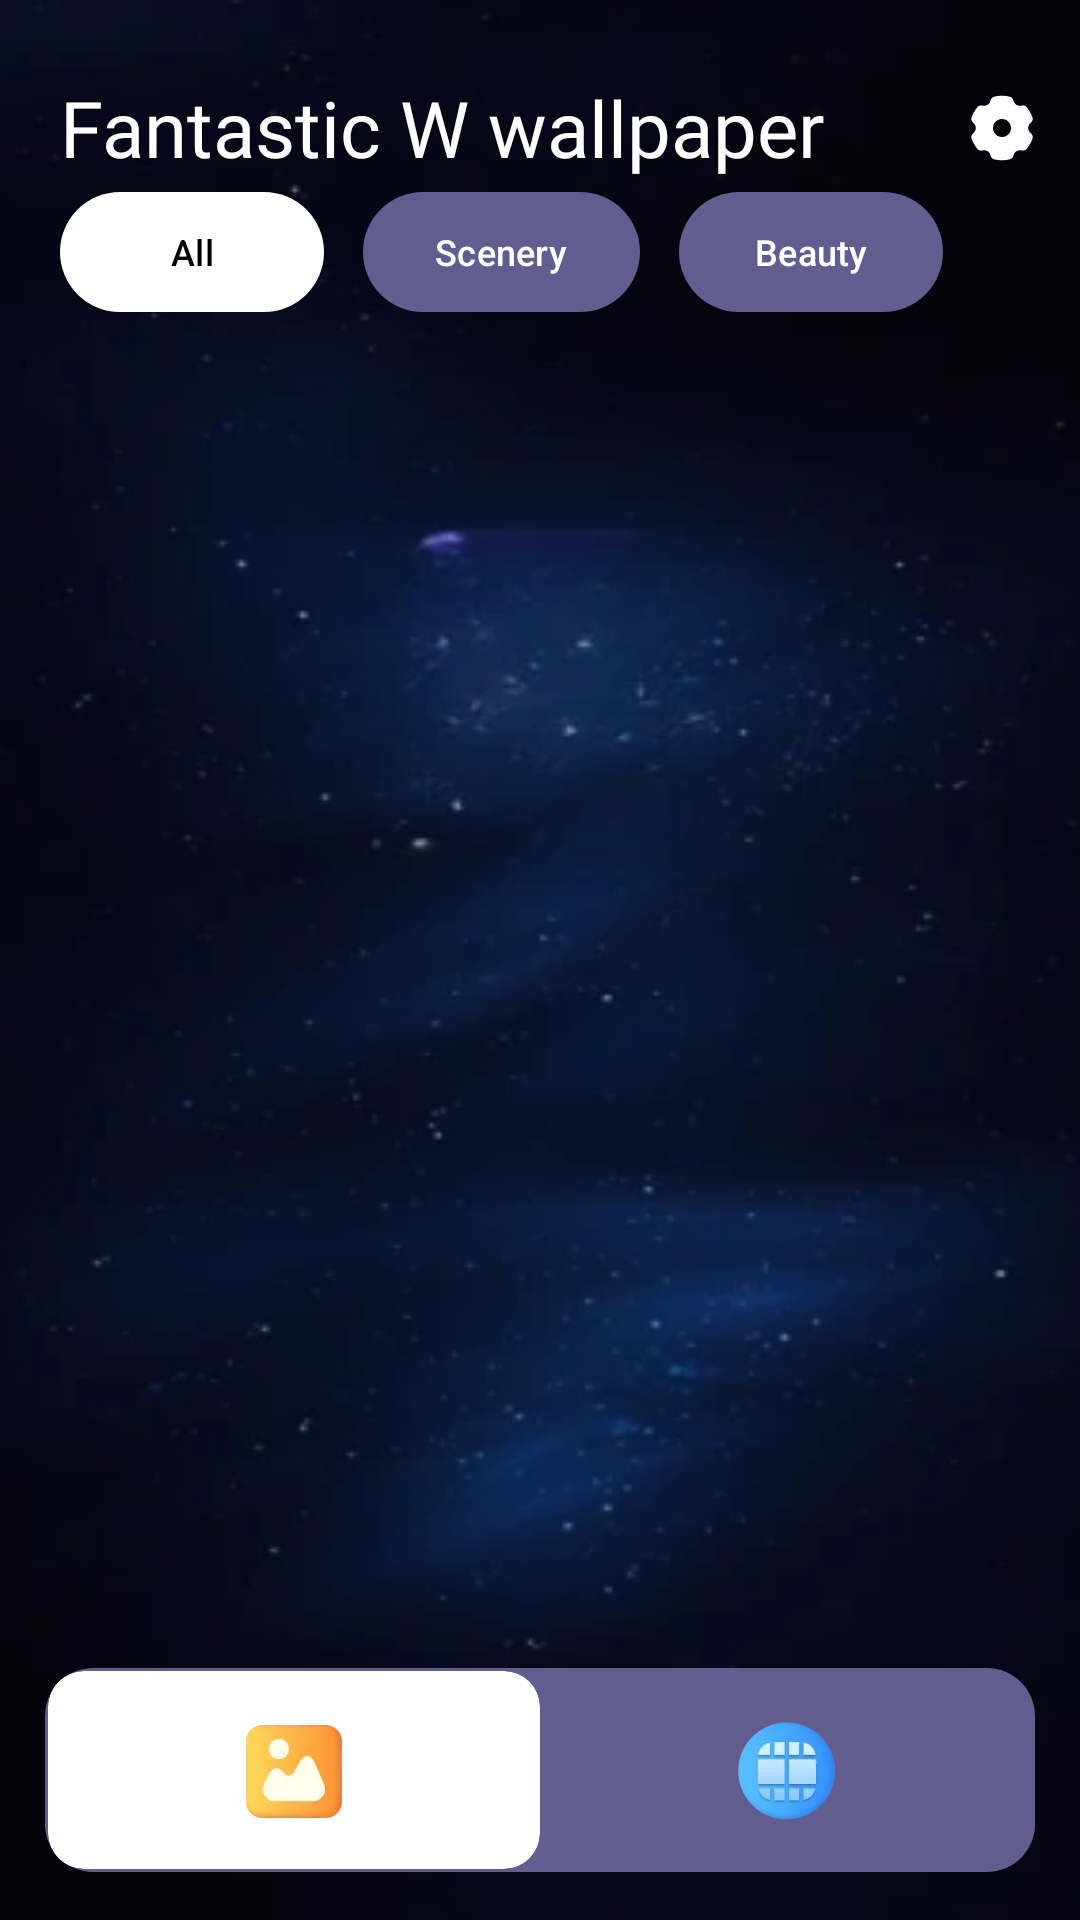

Icons on this 1080 × 1920 Android screen, each with the point to tap as [x,y]:
setting: [1002,128]
